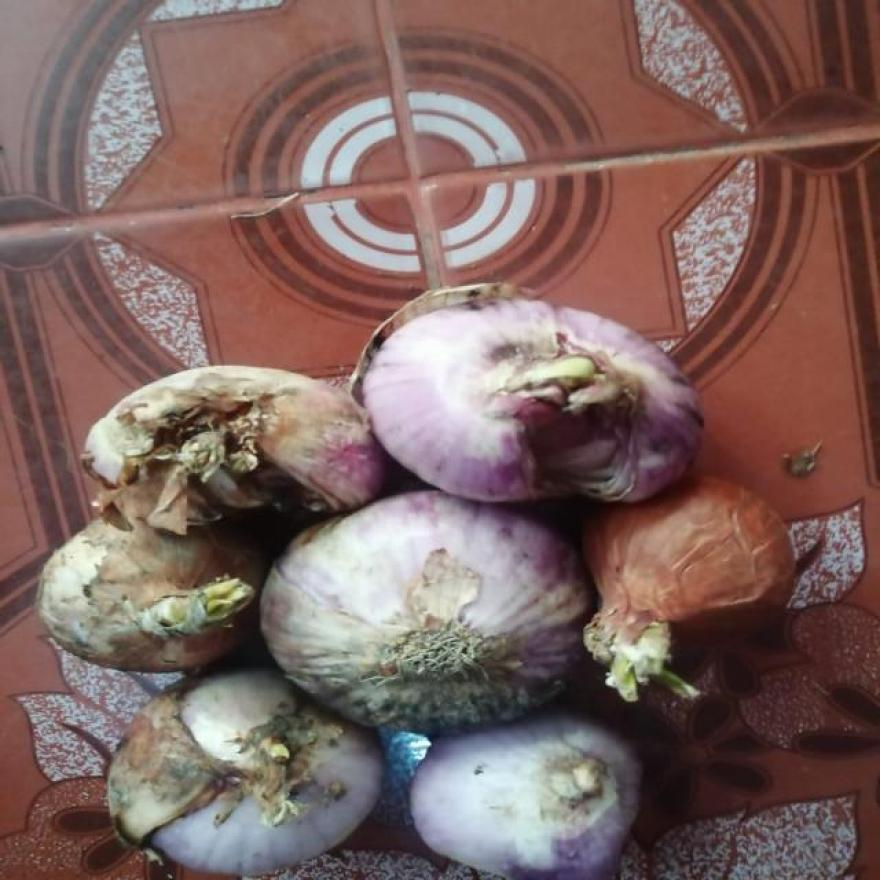Rotten: (116, 705, 244, 832), (151, 424, 305, 515), (525, 417, 612, 490), (342, 690, 507, 721)
Sprouted: (588, 613, 679, 697), (512, 356, 620, 403), (177, 588, 247, 618)
